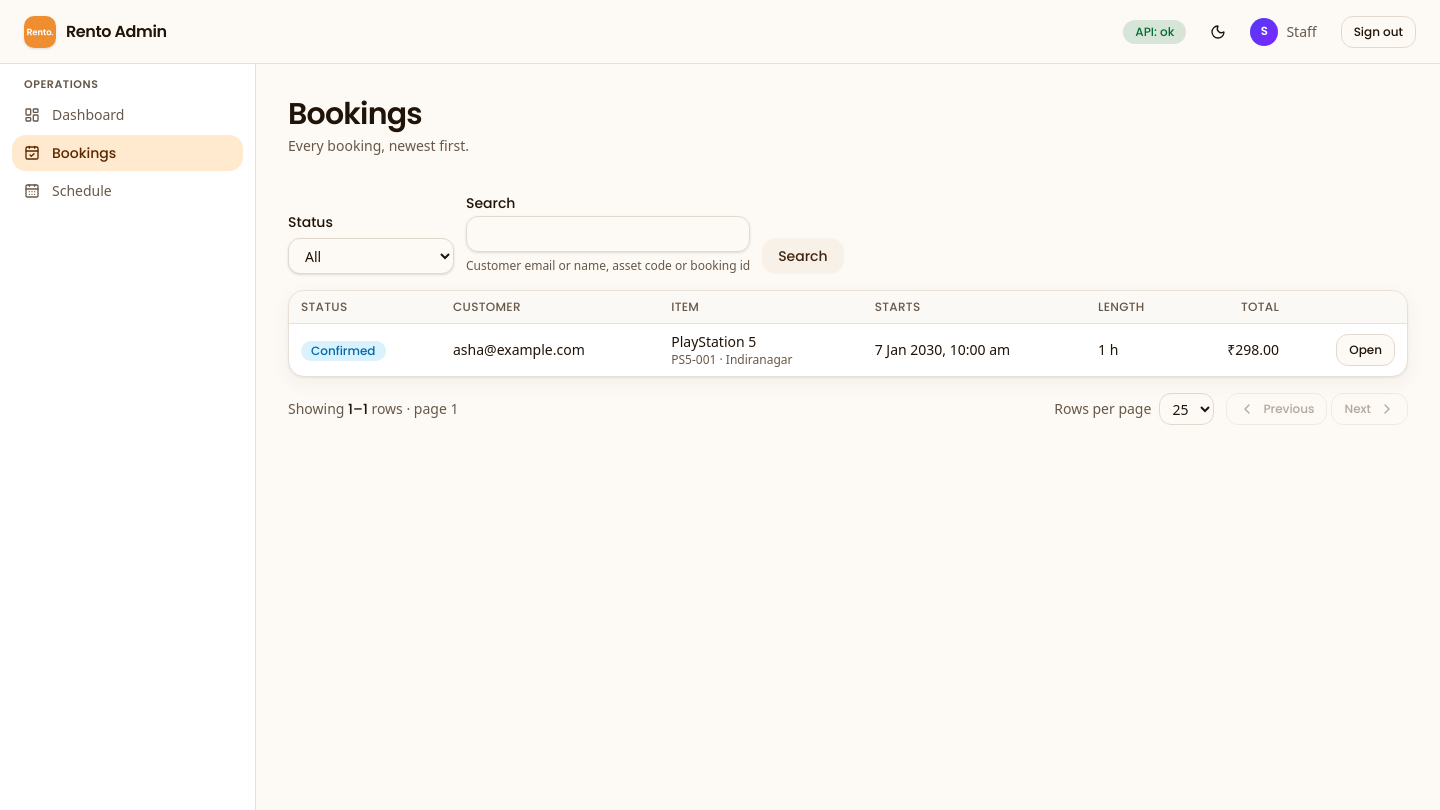
one booking › B-06 staff with only read access see no action buttons
Click the button with aria-label "open booking of asha@example.com" at (1366,350), box [1336,334,1395,366]
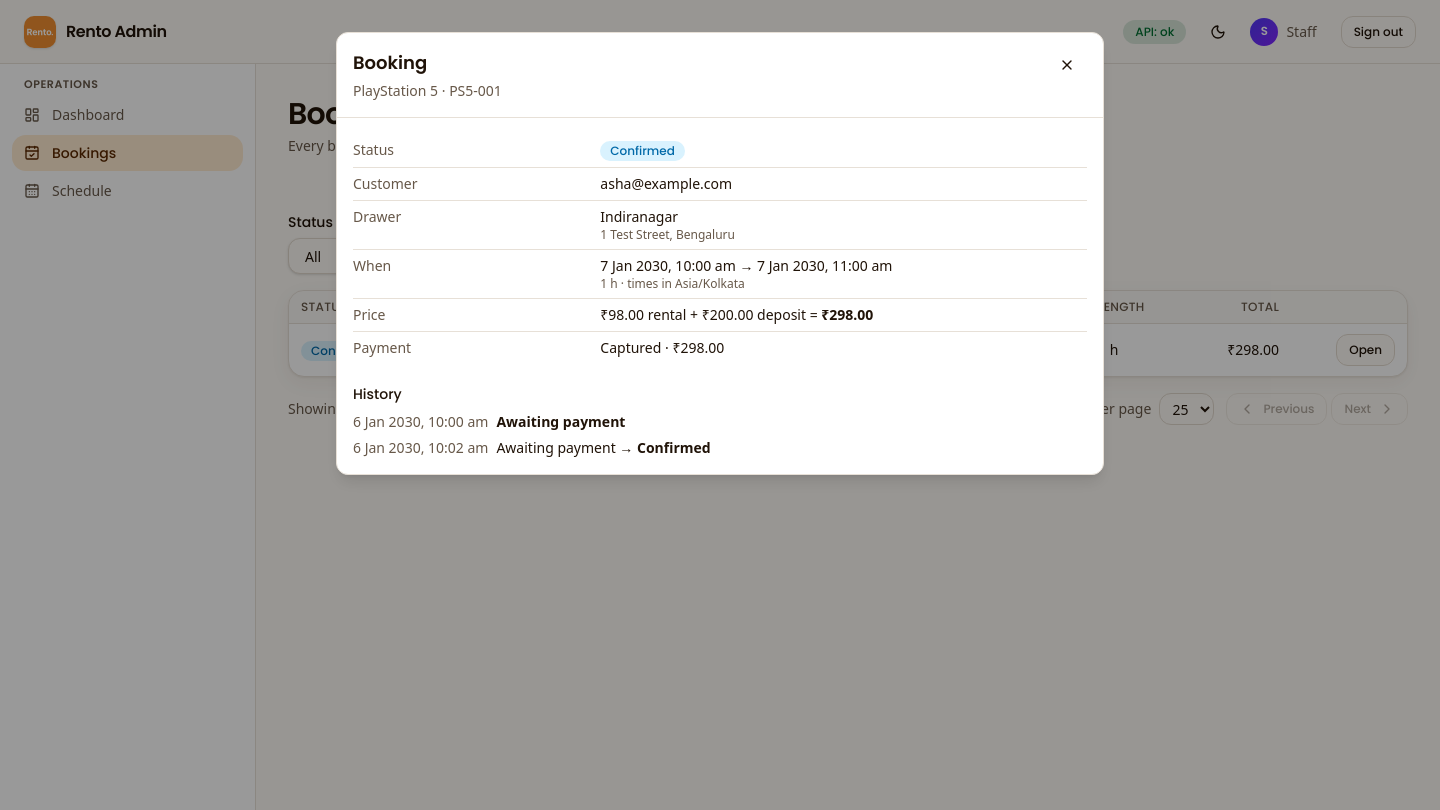
Now the text "₹298.00" is shown, box [821,305,873,324]
